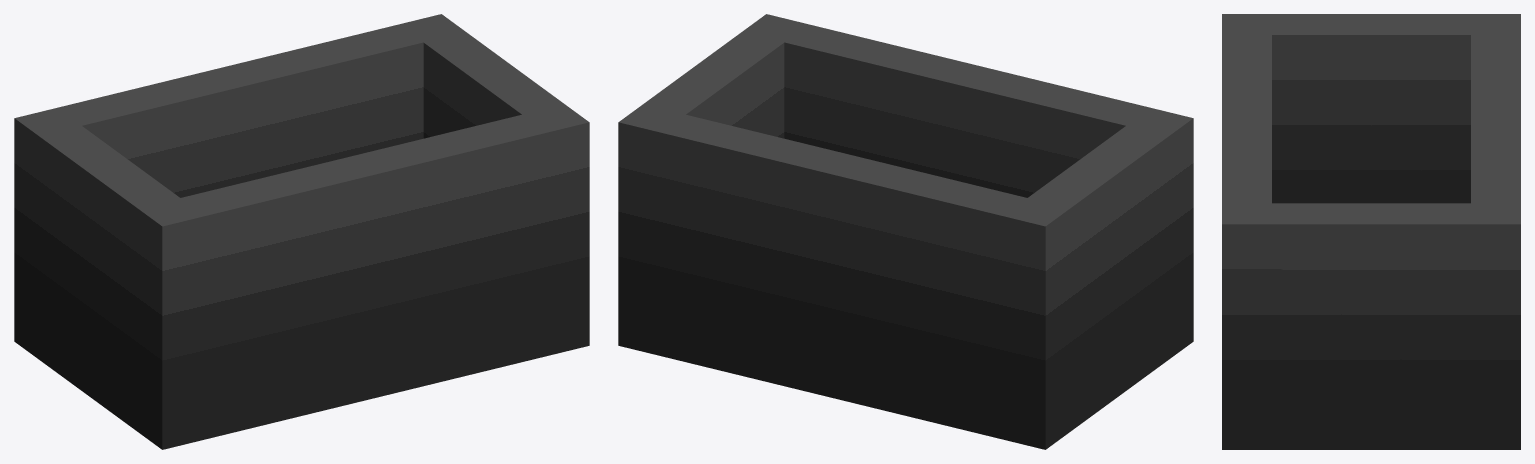
File: mechanim.dae
3 renders of one model, left to right at view 1: azimuth 30°, elevation 25°; view 2: azimuth 150°, elevation 25°; view 3: azimuth 270°, elevation 25°, orthographic.
Parts seen in each view (by area): view 1: mechanim; view 2: mechanim; view 3: mechanim.
Part boxes in pixels (left/top/right/bottom): mechanim: left=14, top=14, right=589, bottom=449; mechanim: left=618, top=14, right=1193, bottom=449; mechanim: left=1222, top=14, right=1520, bottom=449.
Bounding box in the file's own units: 1 × 0.6 × 0.5.
Materials: 1 (1 with a texture image).
